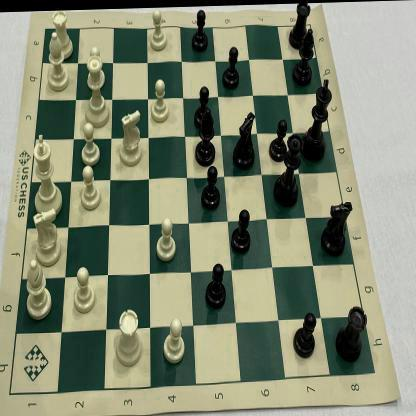black-bishop: (292, 26, 316, 87), (195, 106, 216, 167)
black-king: (300, 76, 335, 162)
black-knight: (322, 198, 352, 257), (231, 110, 257, 170)
black-pawn: (292, 310, 318, 361), (204, 258, 228, 312), (231, 206, 252, 256), (220, 44, 240, 92), (201, 164, 221, 211), (268, 117, 288, 163), (193, 83, 212, 129), (191, 6, 209, 52)
black-queen: (274, 133, 302, 209)
black-rook: (336, 304, 368, 363), (288, 2, 312, 48)
white-bishop: (26, 258, 52, 320), (46, 29, 70, 92)
white-king: (32, 129, 64, 216)
white-knight: (31, 206, 62, 265), (118, 107, 144, 168)
white-pawn: (162, 314, 186, 366), (73, 264, 97, 313), (155, 214, 177, 264), (80, 163, 102, 210), (150, 76, 171, 124), (149, 6, 169, 52), (81, 119, 101, 164), (88, 43, 106, 90)
white-queen: (82, 53, 112, 127)
white-rook: (115, 305, 144, 368), (52, 8, 75, 60)
